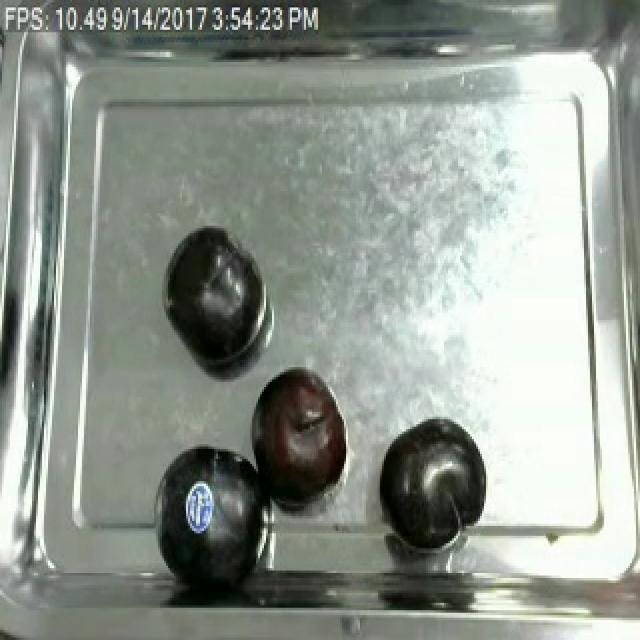Fruit: (140, 432, 276, 592), (240, 357, 356, 514), (374, 414, 490, 553), (160, 236, 266, 370)
